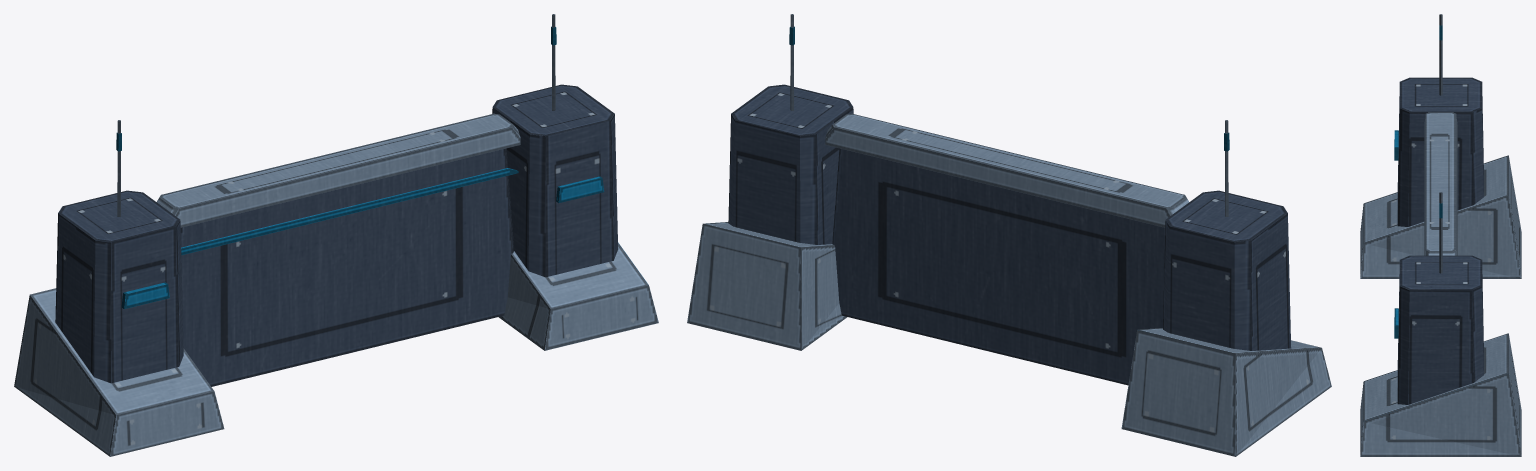
Rendered from building-gate.fbx.
3 renders of one model, left to right at view 1: azimuth 30°, elevation 25°; view 2: azimuth 150°, elevation 25°; view 3: azimuth 270°, elevation 25°, orthographic. The views are drawn at different scales.
Visible parts, largest first — view 1: building-gate; view 2: building-gate; view 3: building-gate.
Boxes of the visible parts, bbox=[...] form: building-gate: bbox=[14, 14, 658, 456]; building-gate: bbox=[687, 14, 1331, 456]; building-gate: bbox=[1360, 14, 1521, 456].
Bounding box in the file's own units: 2400 × 1200 × 728.
Materials: 1 (1 with a texture image).
